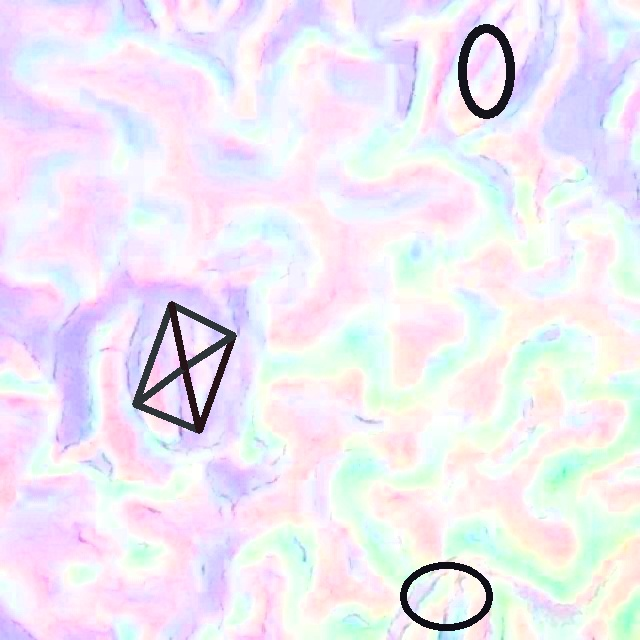close: (132, 301, 236, 433), (457, 23, 514, 119)
open: (400, 563, 491, 630)
